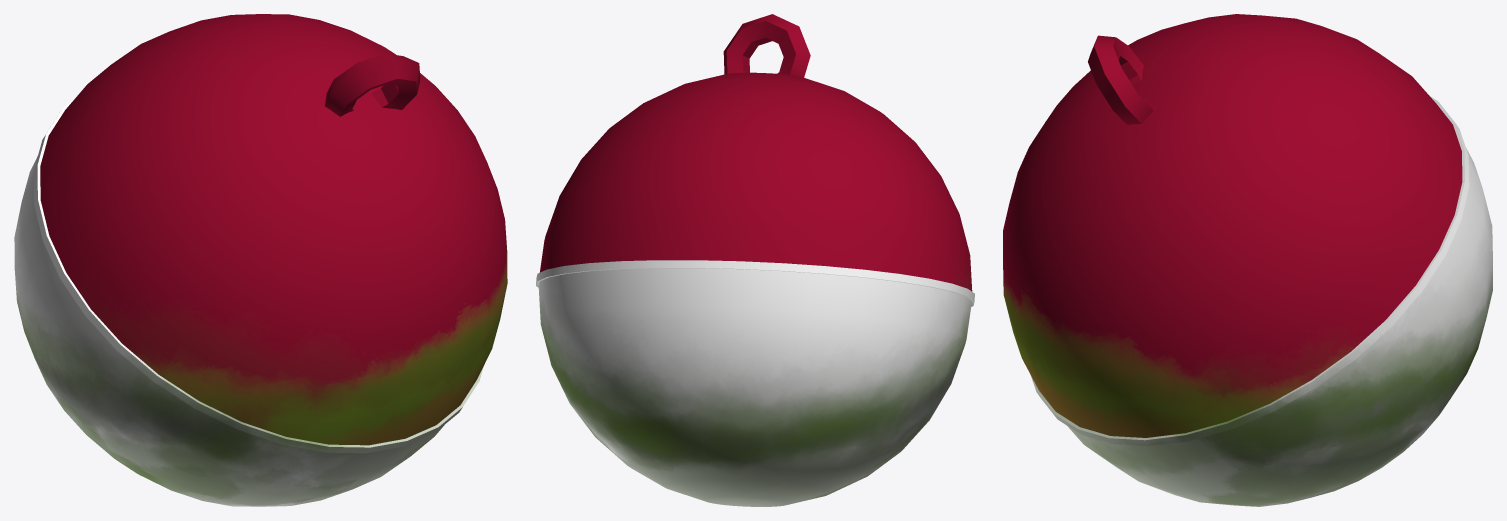
The model's file is bouet.glb.
3 renders of one model, left to right at view 1: azimuth 30°, elevation 25°; view 2: azimuth 150°, elevation 25°; view 3: azimuth 270°, elevation 25°, orthographic. The views are drawn at different scales.
Visible parts, largest first — view 1: Torus.001_top_0; view 2: Torus.001_top_0; view 3: Torus.001_top_0.
Part boxes in pixels (box(x1,y1,x2,y2)): Torus.001_top_0: box(14, 14, 507, 506); Torus.001_top_0: box(536, 14, 974, 506); Torus.001_top_0: box(1003, 14, 1492, 506).
Size of the model in its own units: 0.2878 by 0.2997 by 0.2858.
Materials: 1 (1 with a texture image).
